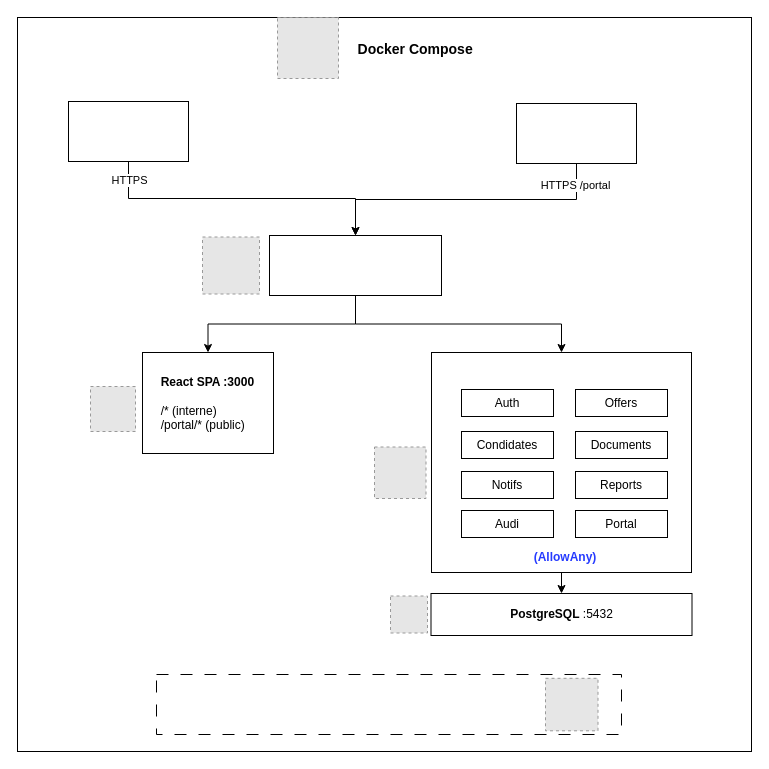
Some shapes in this 769 by 769 pixel diagram are drawn without their labels. Grey dashed boxes stand in for pictures. Here are the shapes that lost their labels. From the top down, the box of each, then its label:
(68, 100, 188, 162): Personnel interne
(516, 102, 636, 164): Société externe (sans compte)
(268, 234, 442, 296): Nginx :443 HTTP :80 --> HTTPS :443 TLS Termination
(430, 352, 692, 572): Django Backend :8000
(156, 674, 622, 734): Scheduler check_deadlines && sleep 3600
